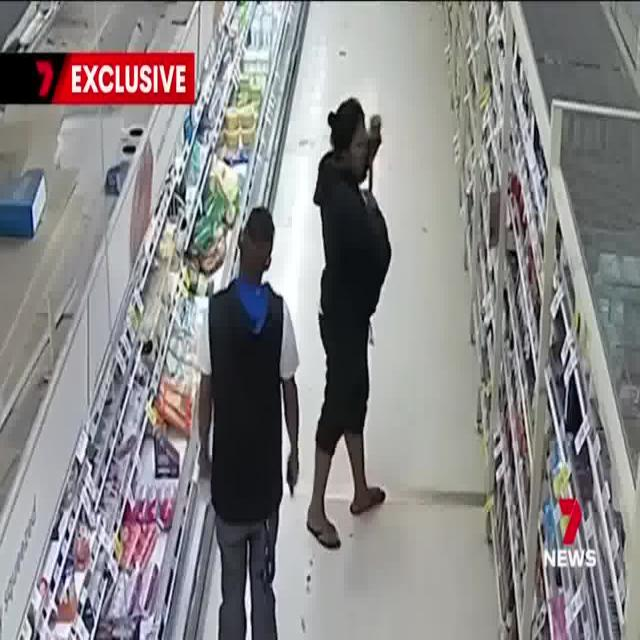persone: (311, 88, 407, 576)
